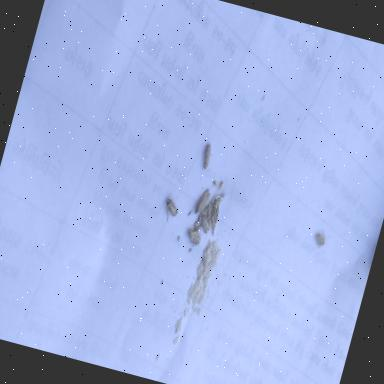pbw: (159, 186, 184, 224), (194, 186, 212, 217), (207, 196, 223, 228), (200, 143, 216, 171), (182, 227, 203, 248), (313, 228, 332, 250), (197, 215, 213, 235), (197, 202, 210, 224), (206, 202, 214, 219)
